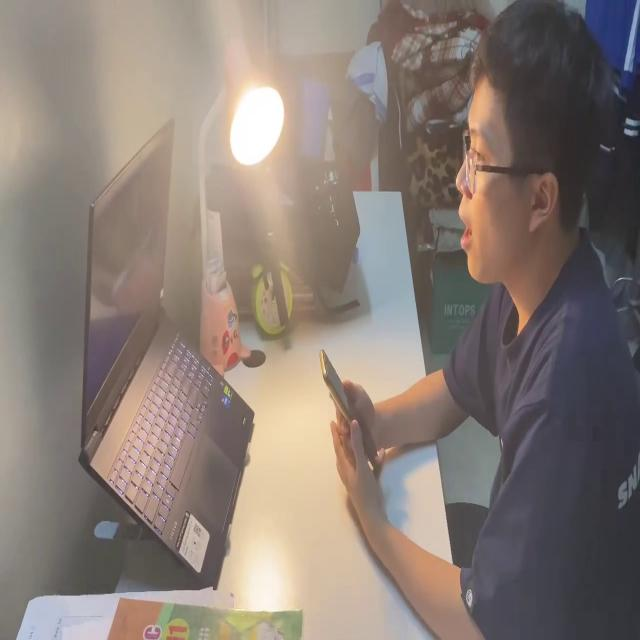book: (5, 579, 302, 640)
laptop: (70, 107, 259, 590)
phone: (318, 342, 383, 488)
student: (327, 0, 640, 640)
